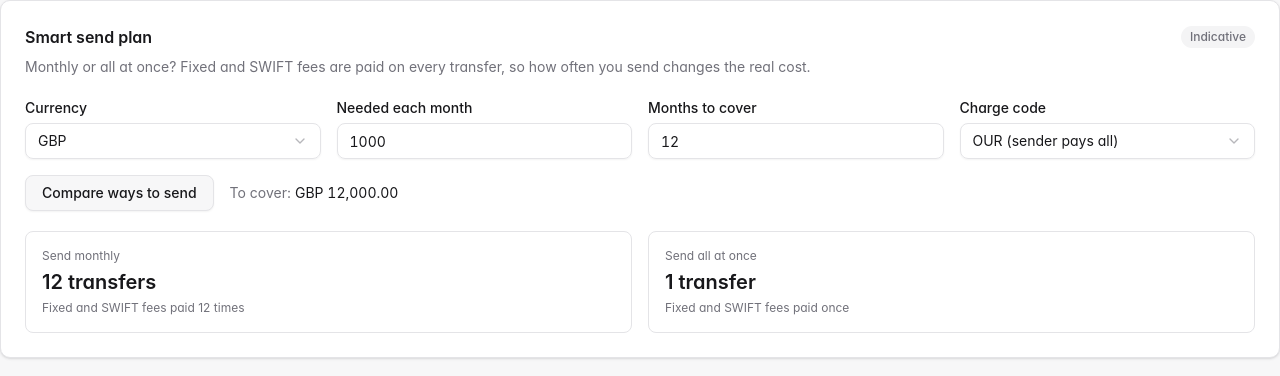
Scenario: SendPlanCard › shows how many times the fixed fees are paid as the months change
Expected: the text "12 transfers" is shown, [42,270,156,294]
Replace the text in the field labelled "Months to cover" with "9". click: (796, 141)
box: [648,123,944,159]
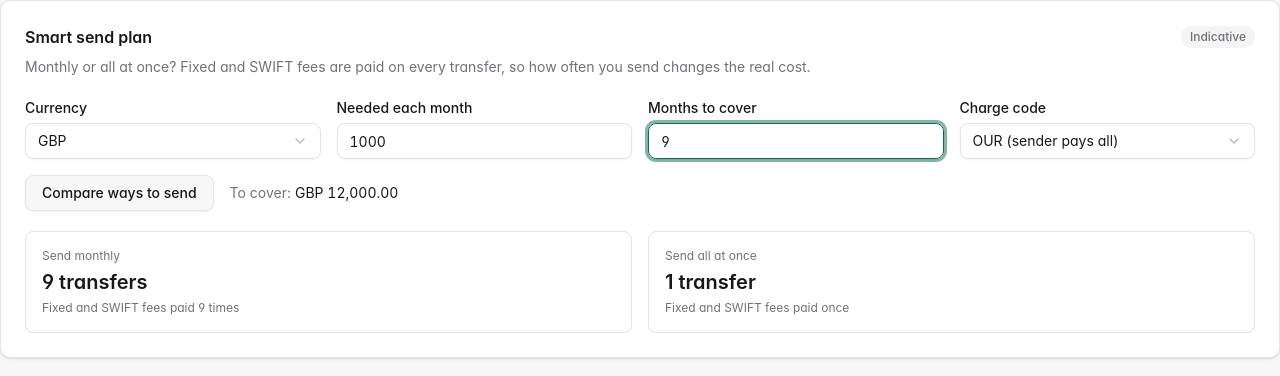
Expected: the text "9 transfers" is shown, [42,270,147,294]
